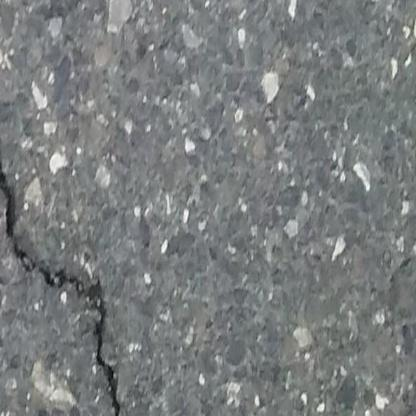Cracks: (0, 135, 136, 416)
